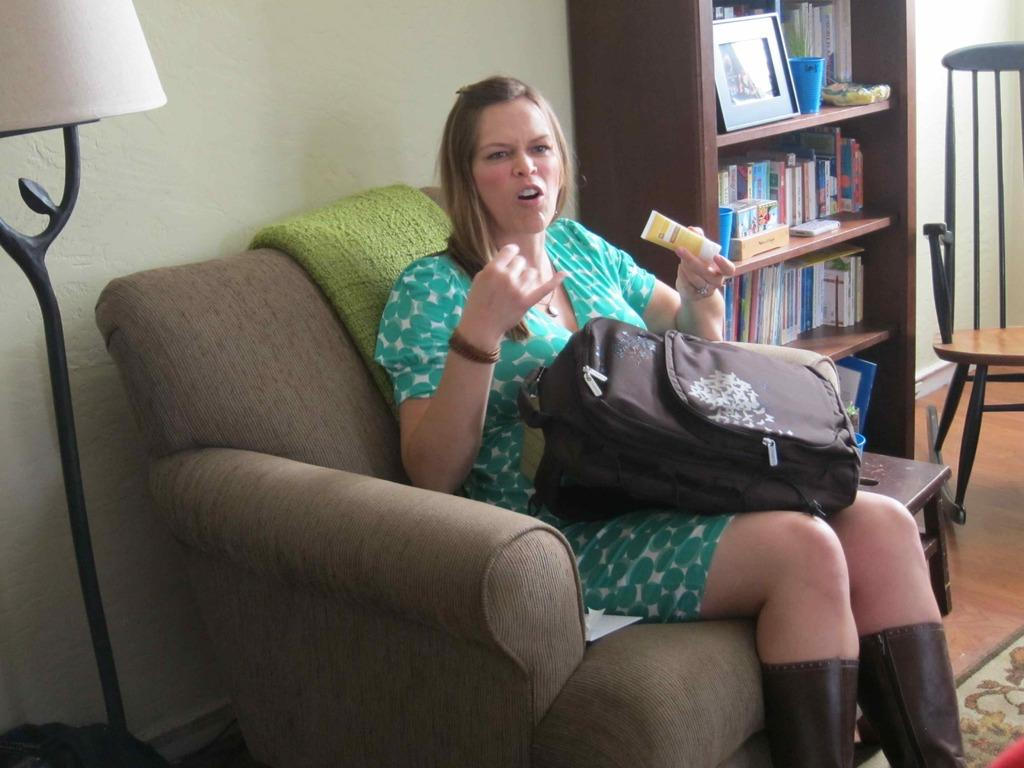Luggage-and-bags: (521, 334, 920, 589)
